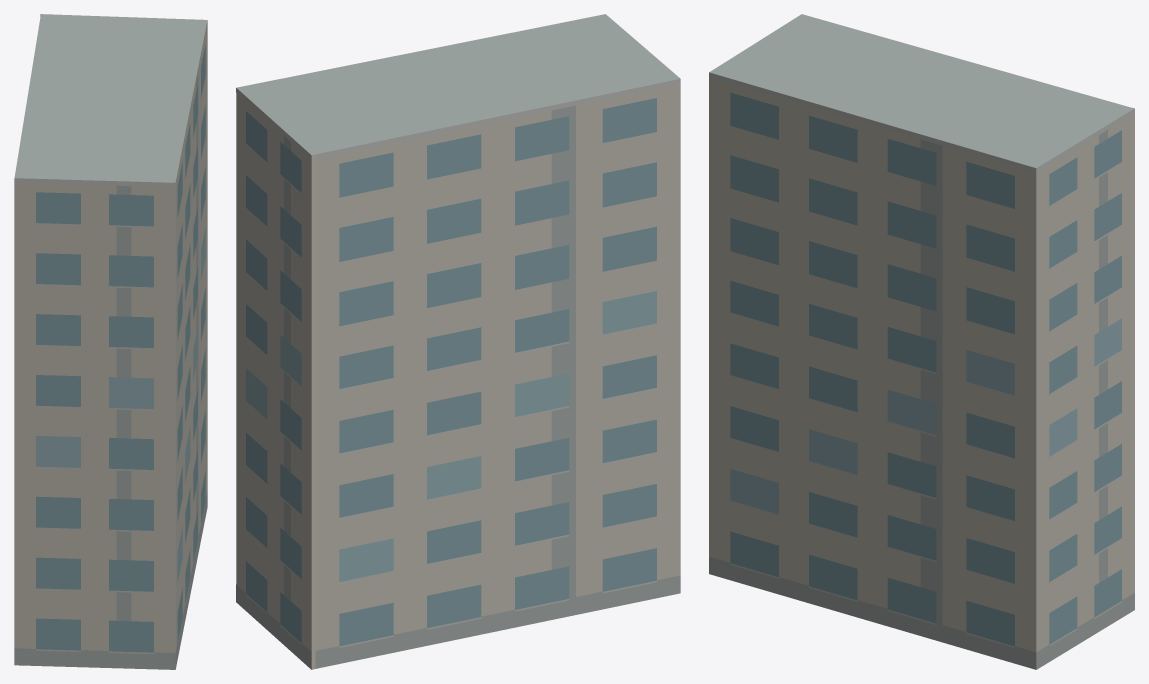
The model's file is survey-upis-32892728.glb.
3 views of the same model, side by side, from view 1: azimuth 30°, elevation 25°; view 2: azimuth 150°, elevation 25°; view 3: azimuth 270°, elevation 25° (orthographic). The views are drawn at different scales.
Parts seen in each view (by area): view 1: survey-upis-32892728.tmp; view 2: survey-upis-32892728.tmp; view 3: survey-upis-32892728.tmp.
Boxes of the visible parts, box(x1,y1,x2,y2) form: survey-upis-32892728.tmp: box(14, 14, 207, 669); survey-upis-32892728.tmp: box(236, 14, 680, 669); survey-upis-32892728.tmp: box(709, 14, 1134, 669).
Size of the model in its own units: 16.47 by 24.96 by 19.21.
